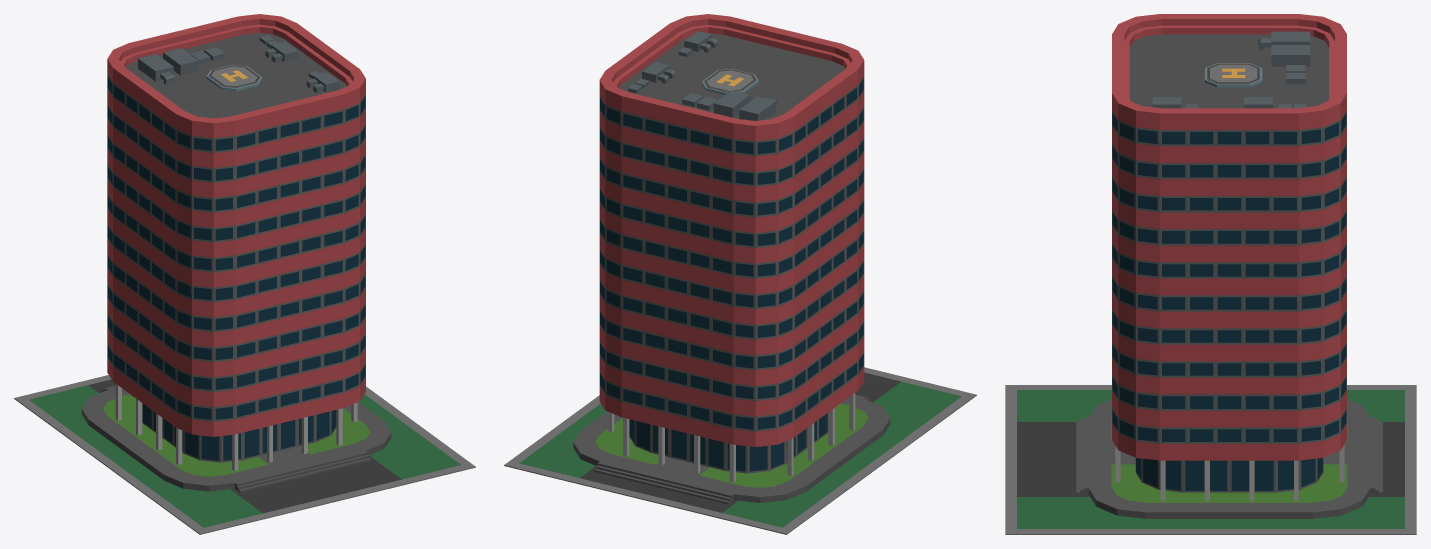
The picture shows the model from 3 angles, left to right: view 1: azimuth 30°, elevation 25°; view 2: azimuth 150°, elevation 25°; view 3: azimuth 270°, elevation 25°; orthographic projection. The views are drawn at different scales.
Parts seen in each view (by area): view 1: skyscraper_b.001; view 2: skyscraper_b.001; view 3: skyscraper_b.001.
Part boxes in pixels (bbox=[...]): skyscraper_b.001: bbox=[14, 14, 475, 534]; skyscraper_b.001: bbox=[504, 14, 976, 534]; skyscraper_b.001: bbox=[1005, 14, 1416, 534].
Size of the model in its own units: 30 by 37.26 by 35.
Materials: 1 (1 with a texture image).
